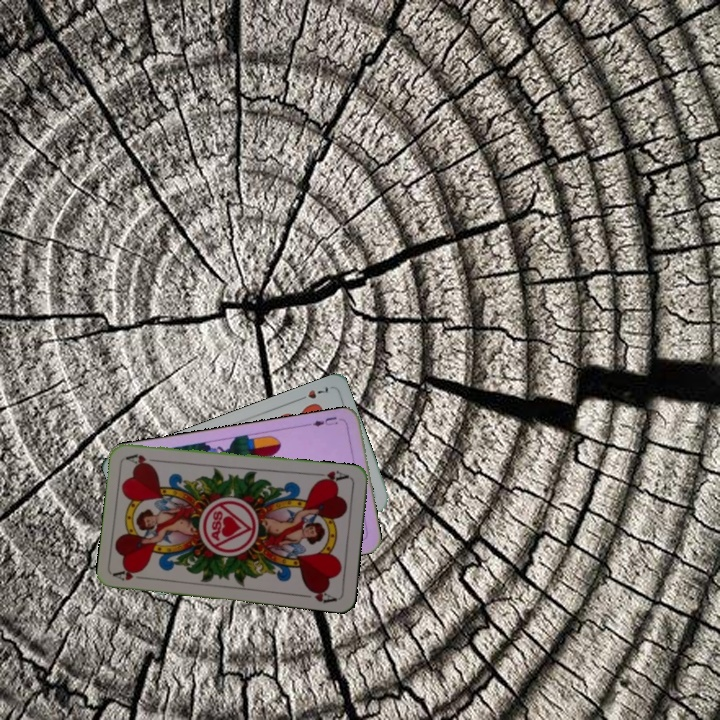EU: (305, 412, 340, 429)
H7: (293, 382, 331, 404)
HA: (312, 466, 352, 486), (111, 565, 152, 584)
